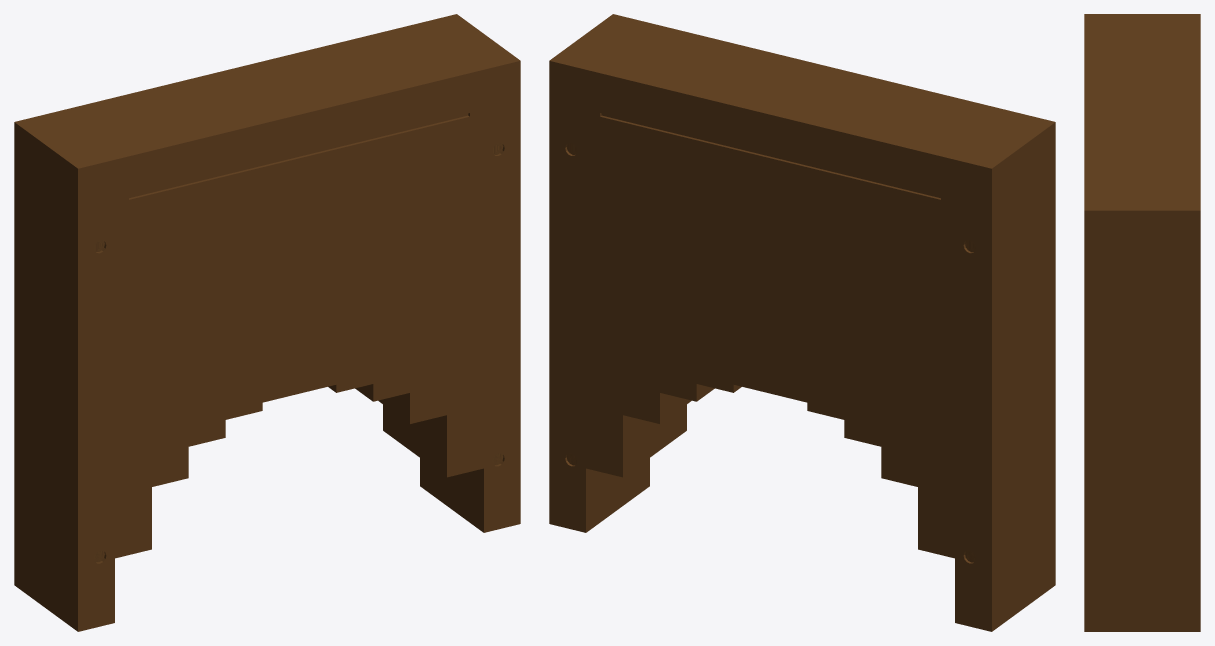
File: arch.glb
3 views of the same model, side by side, from view 1: azimuth 30°, elevation 25°; view 2: azimuth 150°, elevation 25°; view 3: azimuth 270°, elevation 25° (orthographic). The views are drawn at different scales.
Visible parts, largest first — view 1: arch.002; view 2: arch.002; view 3: arch.002.
Part boxes in pixels (box(x1,y1,x2,y2)): arch.002: box(14, 14, 520, 631); arch.002: box(549, 14, 1055, 631); arch.002: box(1084, 14, 1200, 631).
Bounding box in the file's own units: 1 × 1 × 0.25.
1 material, 1 textured.
